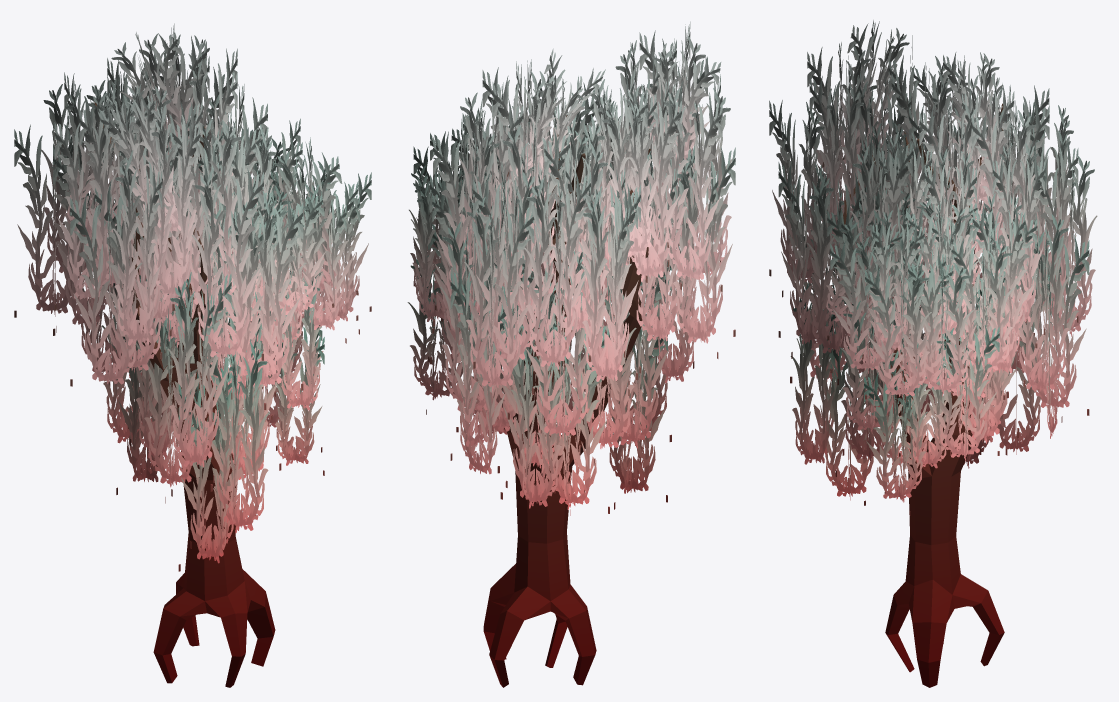
3 renders of one model, left to right at view 1: azimuth 30°, elevation 25°; view 2: azimuth 150°, elevation 25°; view 3: azimuth 270°, elevation 25°, orthographic. The views are drawn at different scales.
Parts seen in each view (by area): view 1: SM_Tree_Willow_Medium_01; view 2: SM_Tree_Willow_Medium_01; view 3: SM_Tree_Willow_Medium_01.
Boxes of the visible parts, x1,y1,x2,y2 form: SM_Tree_Willow_Medium_01: [14, 23, 371, 687]; SM_Tree_Willow_Medium_01: [407, 21, 735, 687]; SM_Tree_Willow_Medium_01: [769, 20, 1097, 687].
Bounding box in the file's own units: 3.36 × 6.68 × 3.36.
2 materials, 2 textured.
